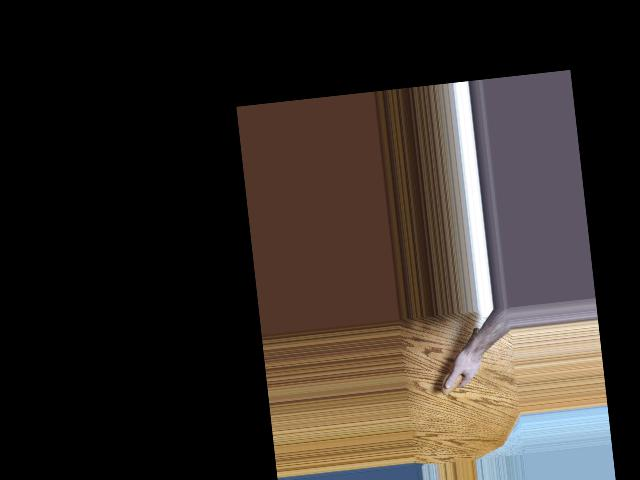sweet_potato: (434, 325, 487, 395)
